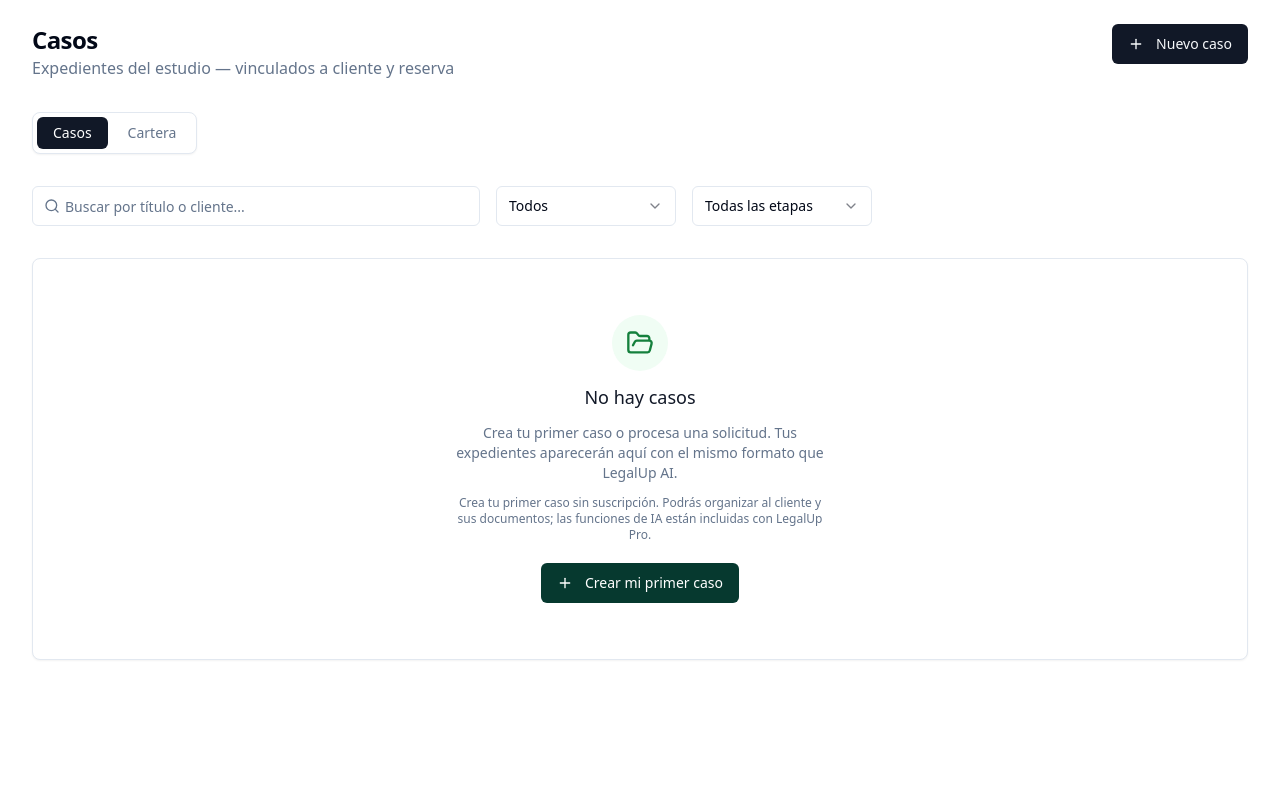
4.31C — New Case client dropdown › 0 clients: dropdown shows only "Sin cliente"
The image size is (1280, 800).
Click the button "Nuevo caso".
click(1180, 44)  # box x1=1112 y1=24 x2=1248 y2=64
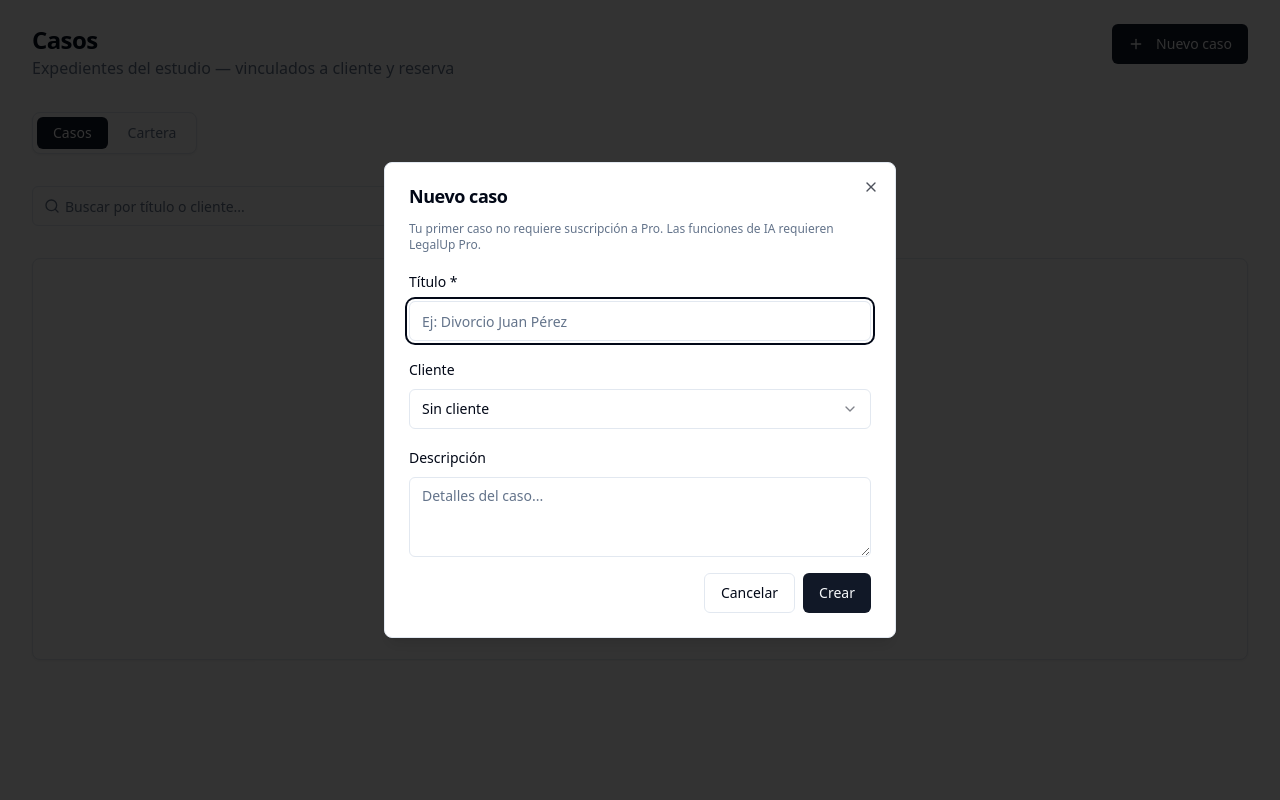
Click the dropdown.
click(456, 408)  # box x1=409 y1=389 x2=871 y2=429
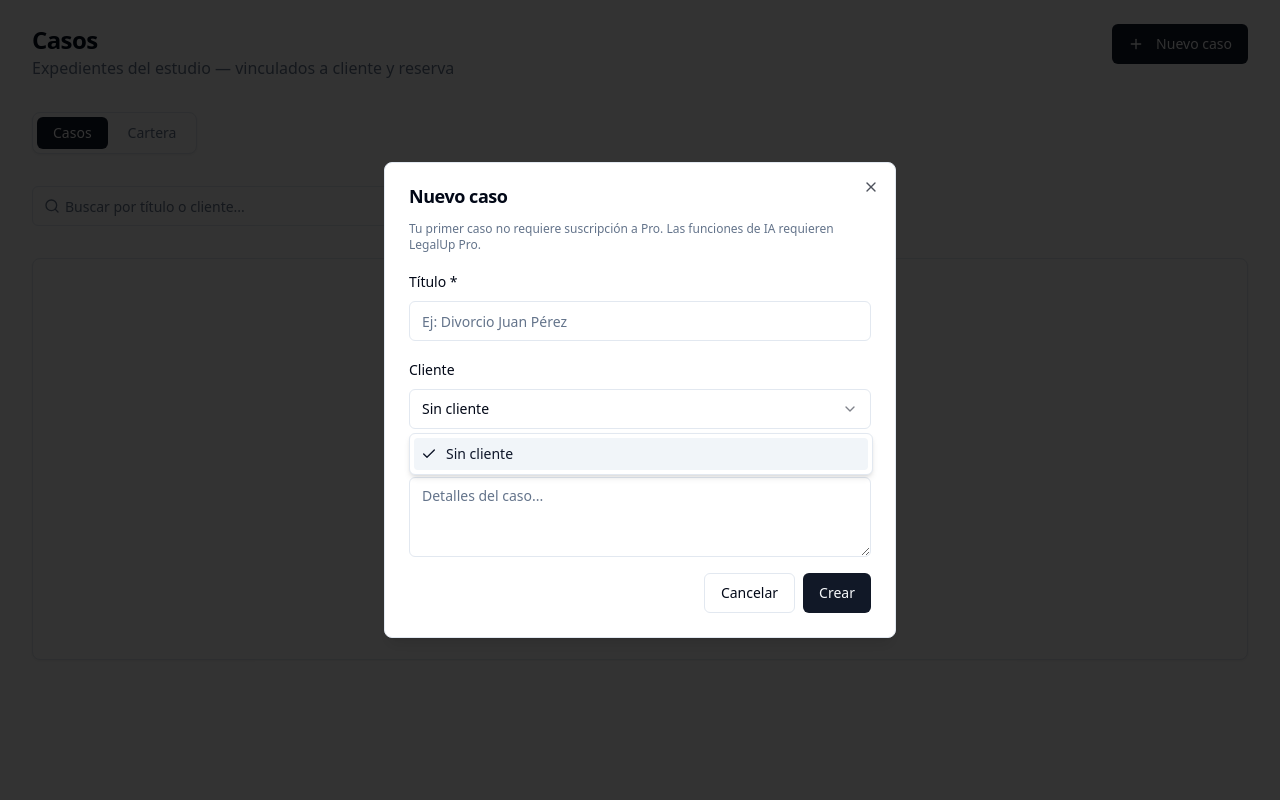
Expected: the number of options is 1, x1=414 y1=438 x2=868 y2=470
Expected: the option reads "Sin cliente", x1=414 y1=438 x2=868 y2=470
